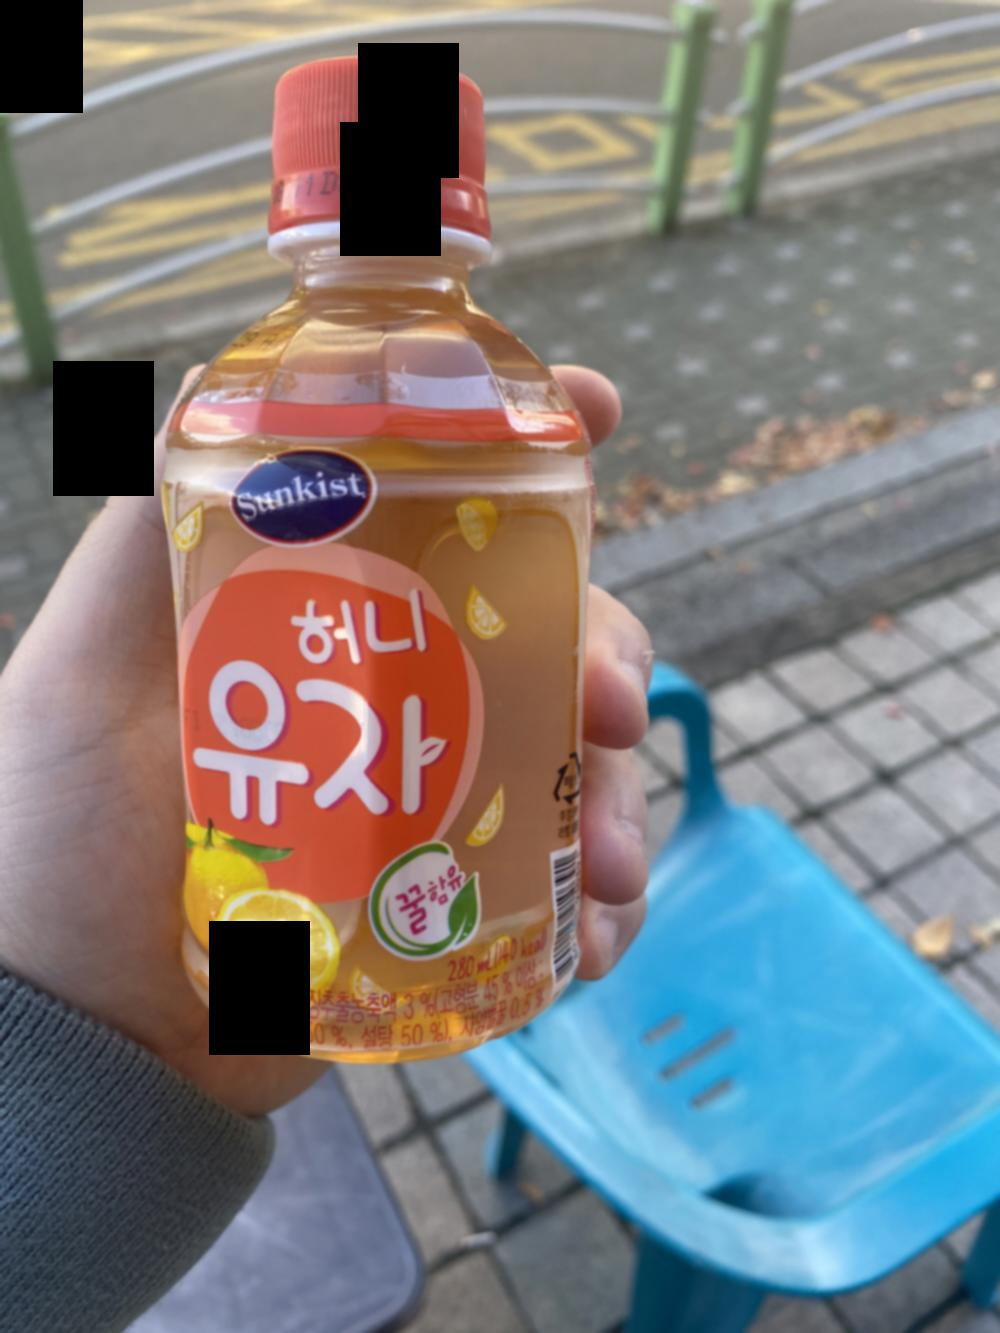honeyyuja: (161, 41, 589, 1067)
